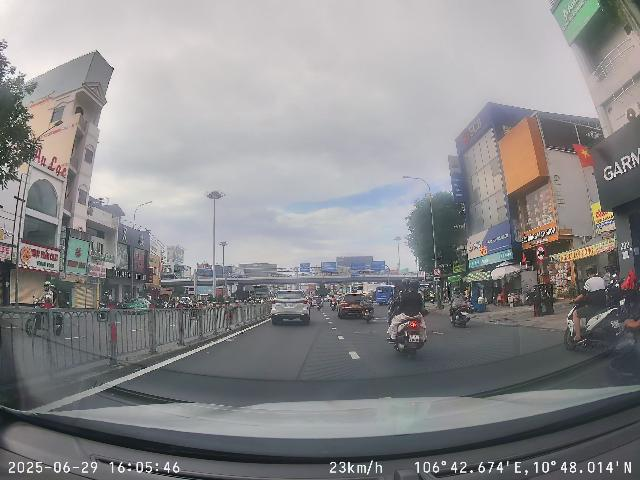106-cam-oto-tai: (536, 245, 546, 262)
123a-cam-re-trai: (433, 268, 441, 276)
